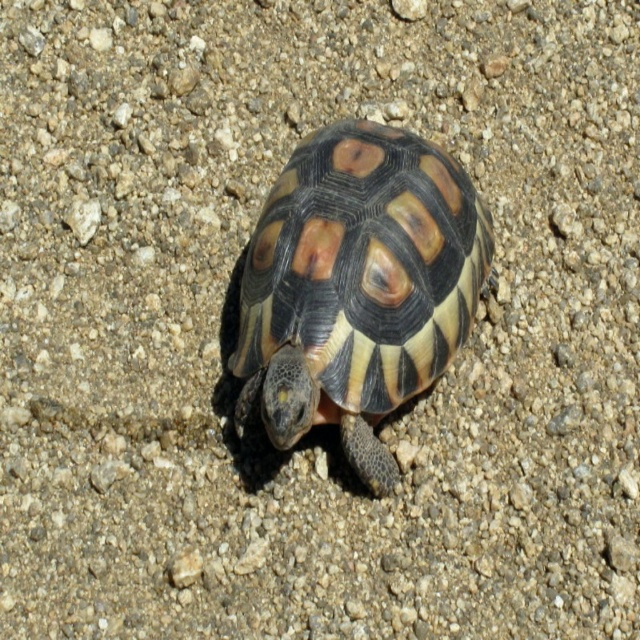Sea turtle: (228, 118, 495, 500)
